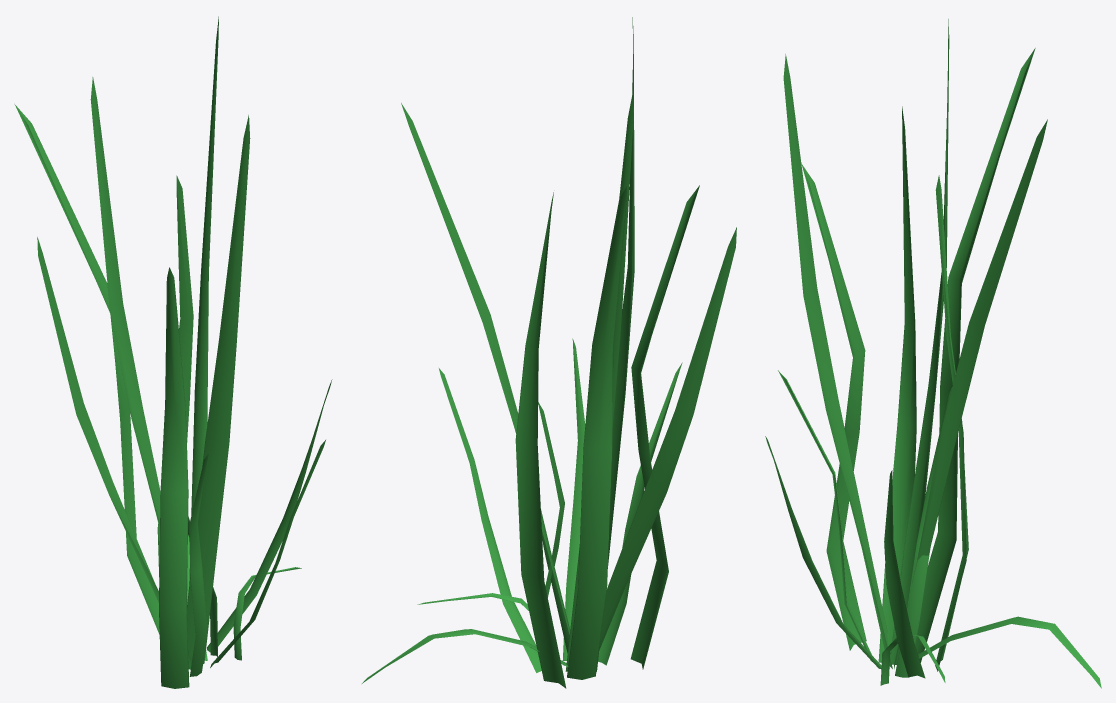
Rendered from SM_Herbe3.fbx.
3 renders of one model, left to right at view 1: azimuth 30°, elevation 25°; view 2: azimuth 150°, elevation 25°; view 3: azimuth 270°, elevation 25°, orthographic. The views are drawn at different scales.
Parts seen in each view (by area): view 1: SM_Herbe_00; view 2: SM_Herbe_00; view 3: SM_Herbe_00.
Boxes of the visible parts, x1,y1,x2,y2 form: SM_Herbe_00: (14, 16, 332, 688); SM_Herbe_00: (362, 17, 736, 688); SM_Herbe_00: (765, 19, 1101, 688).
Size of the model in its own units: 15.04 by 14.5 by 29.19.
Materials: 1 (1 with a texture image).
